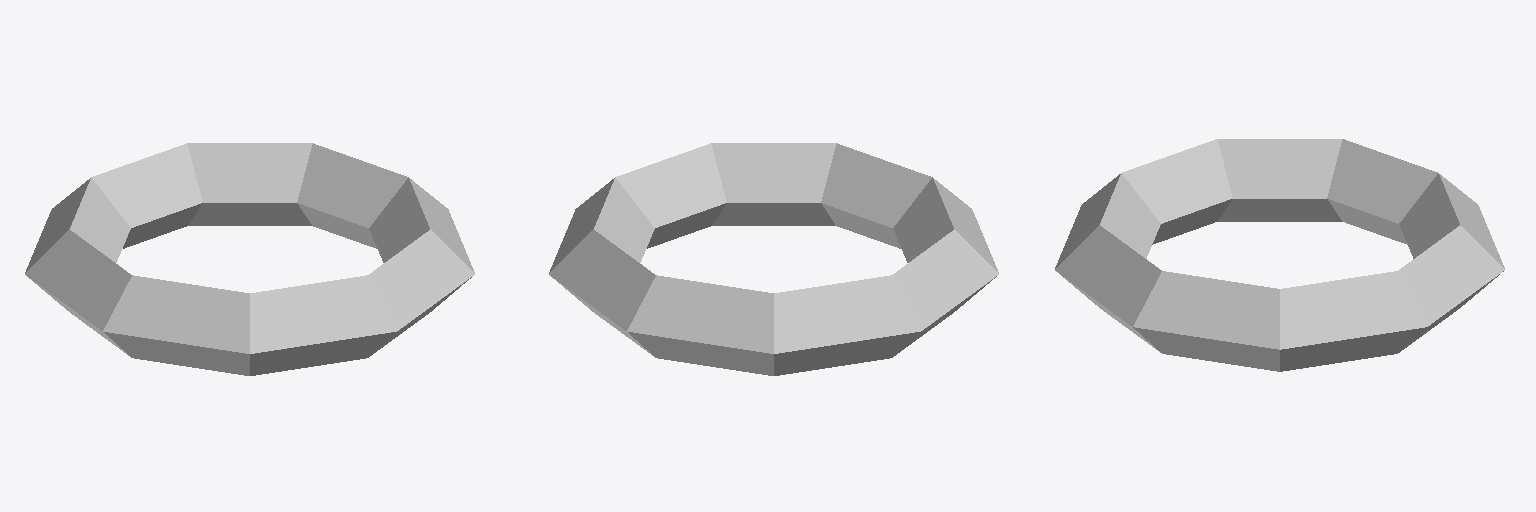
Rendered from ring.obj.
3 renders of one model, left to right at view 1: azimuth 30°, elevation 25°; view 2: azimuth 150°, elevation 25°; view 3: azimuth 270°, elevation 25°, orthographic.
Parts seen in each view (by area): view 1: トーラス; view 2: トーラス; view 3: トーラス.
Boxes of the visible parts, <box> form: トーラス: <box>25,143,474,375</box>; トーラス: <box>549,143,998,375</box>; トーラス: <box>1055,139,1504,371</box>.
Bounding box in the file's own units: 2.42 × 0.5 × 2.46.